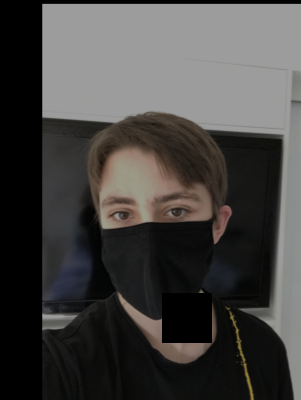with_mask: (100, 170, 215, 320)
